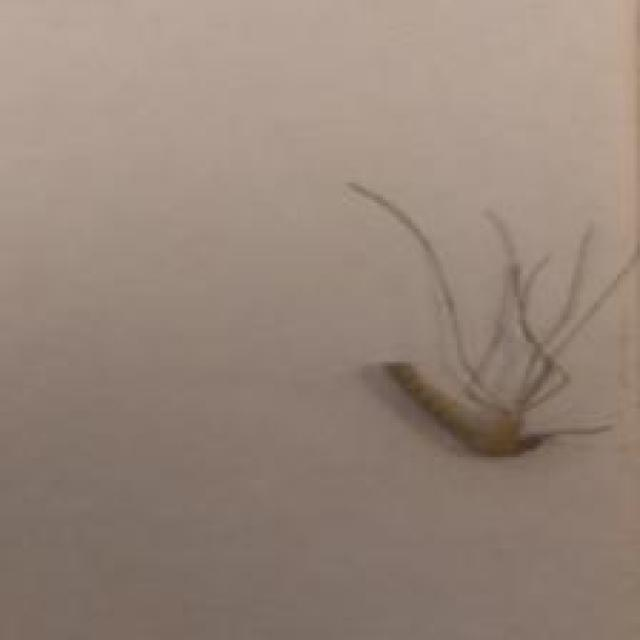Culex: (343, 178, 640, 458)
